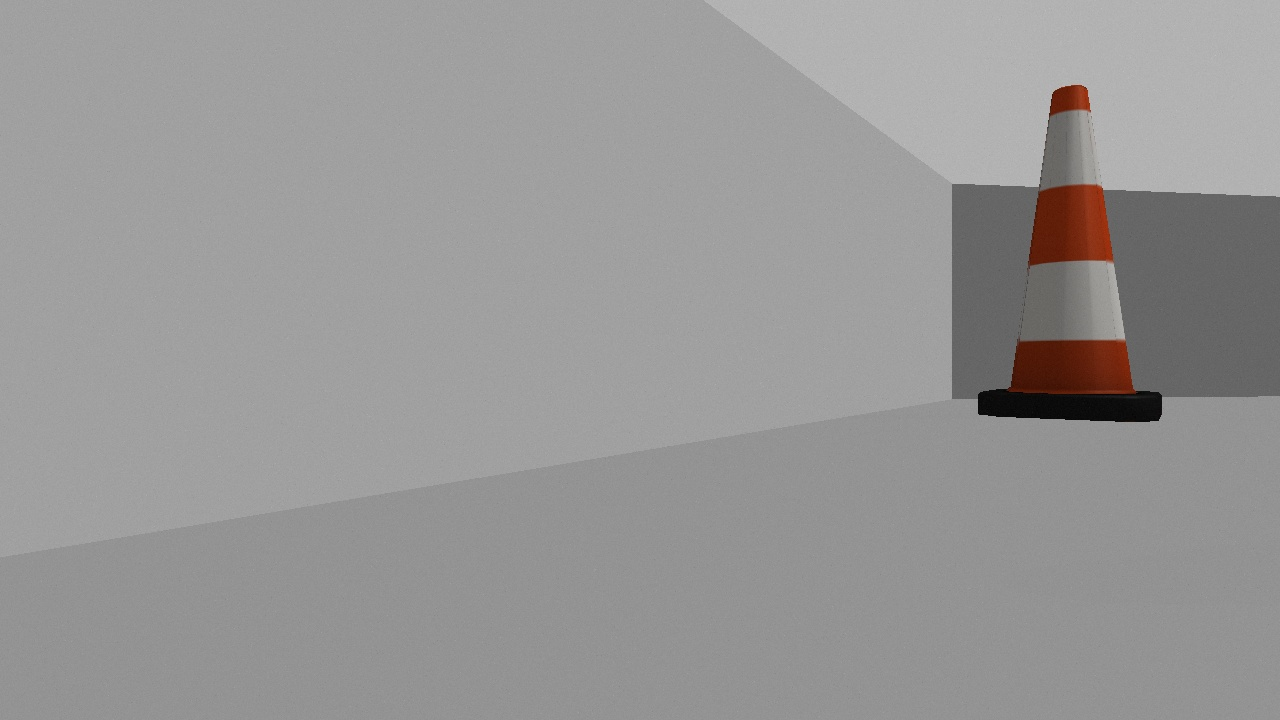barricade: (969, 68, 1177, 450)
